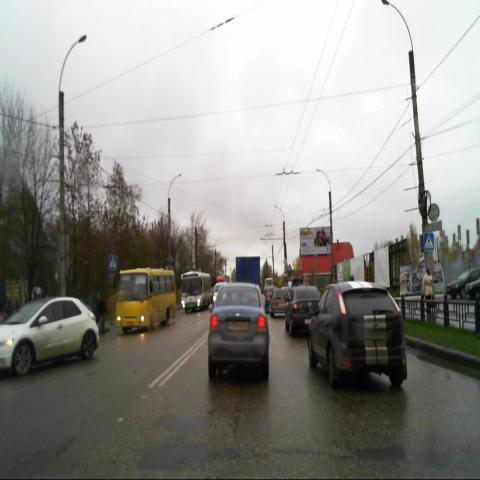5_19_1: (424, 232, 434, 252), (108, 255, 117, 270)
